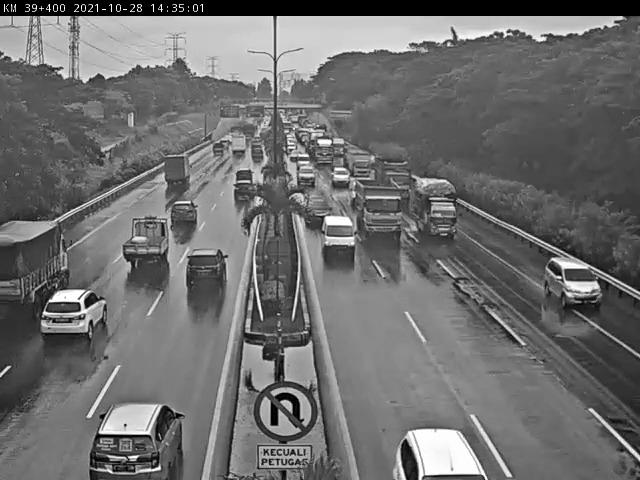big truck: (0, 216, 81, 309), (355, 182, 405, 240), (373, 147, 416, 182)
car: (81, 398, 191, 480), (376, 413, 490, 479), (38, 283, 116, 371), (541, 248, 610, 311), (177, 242, 235, 303), (321, 214, 359, 266), (162, 197, 204, 235), (291, 158, 320, 186), (303, 191, 329, 216), (328, 161, 351, 186), (231, 168, 259, 185), (232, 192, 257, 211)
small truck: (403, 173, 457, 238), (120, 211, 176, 271), (153, 152, 190, 193)
